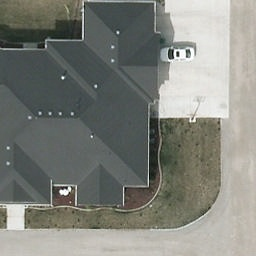car: (160, 46, 198, 63)
